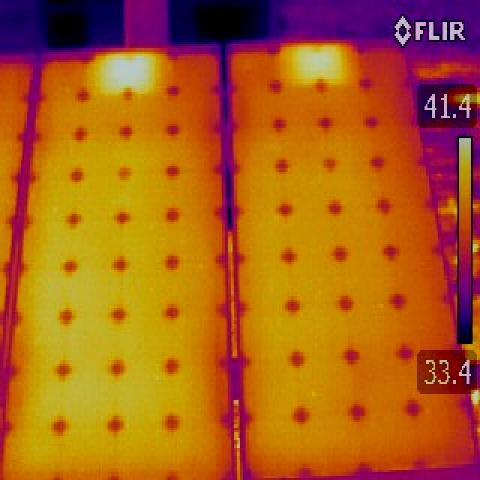fault: (92, 49, 174, 98), (280, 43, 358, 88)
